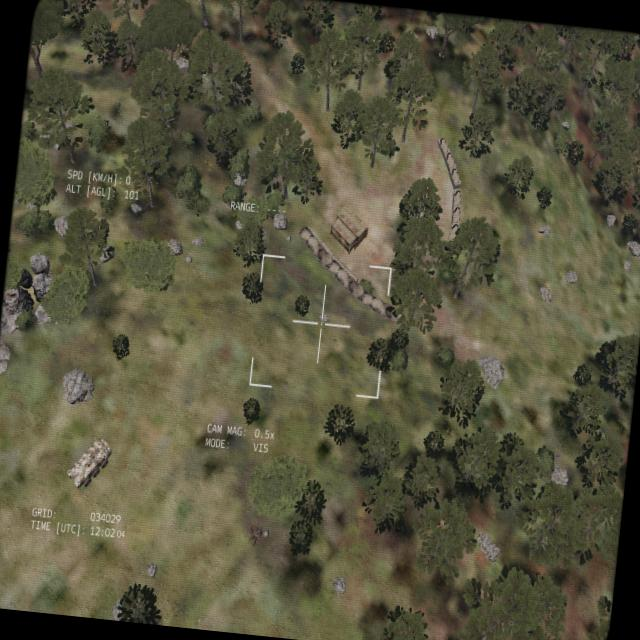apc: (65, 432, 112, 492)
